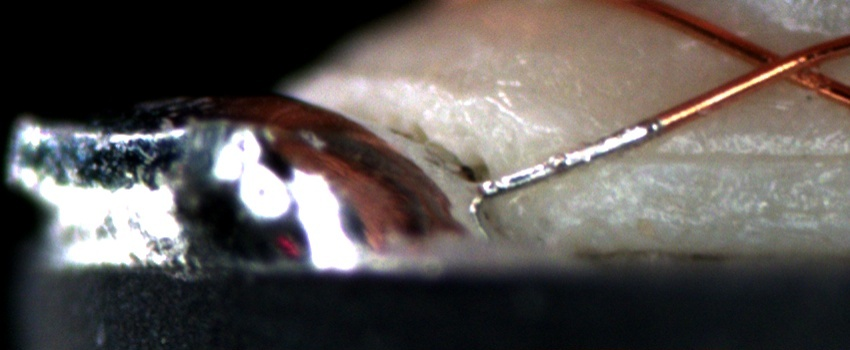CL: (720, 36, 836, 92)
DL: (613, 126, 850, 190)
TS: (477, 120, 656, 196)
